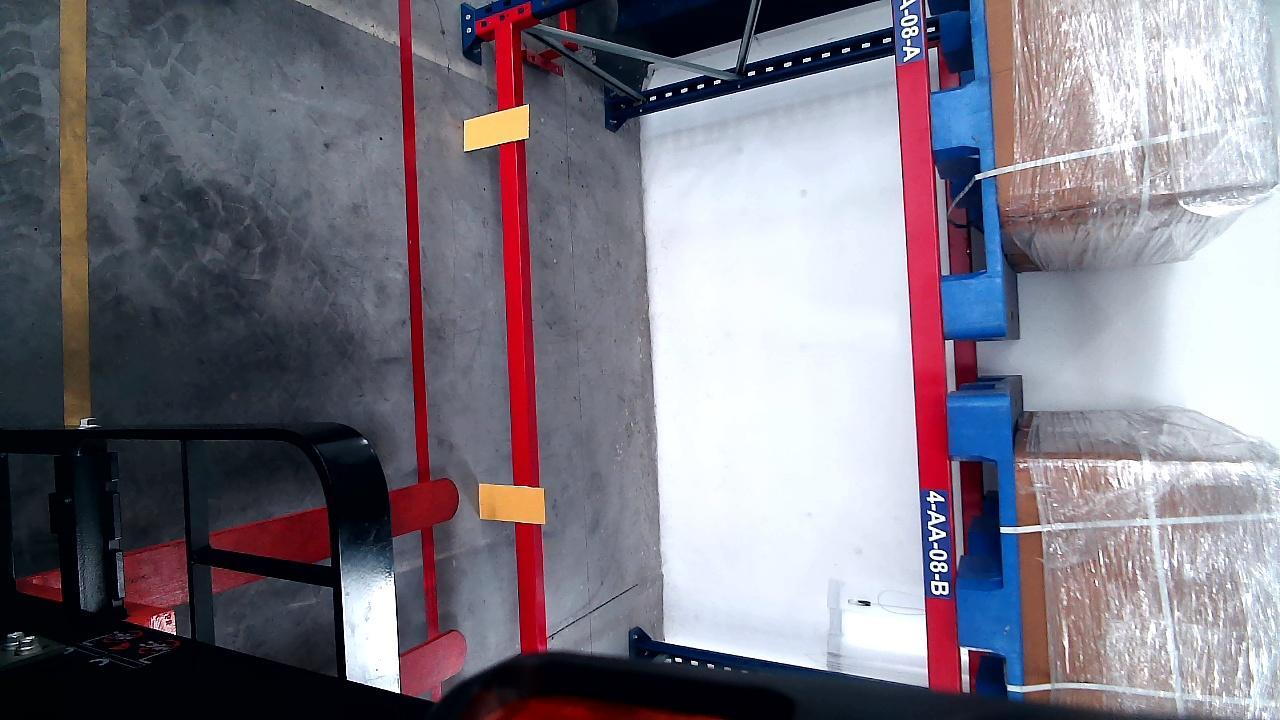red_line: (398, 0, 438, 632)
